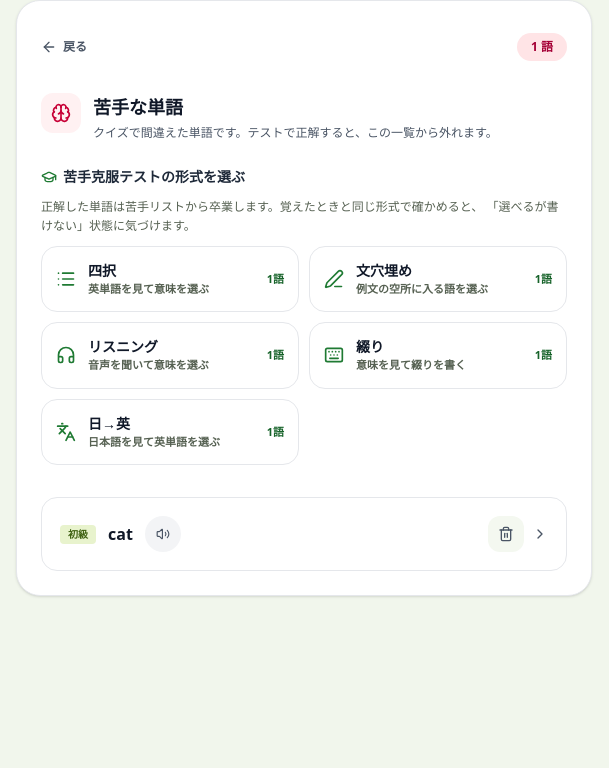
Test: 答えが例文に2回以上出てくるとき › 穴の記号を残さず、すべて答えで埋めて見せる
Click the text "cat". click: click(120, 534)
box: top-left (108, 522), bottom-right (133, 546)
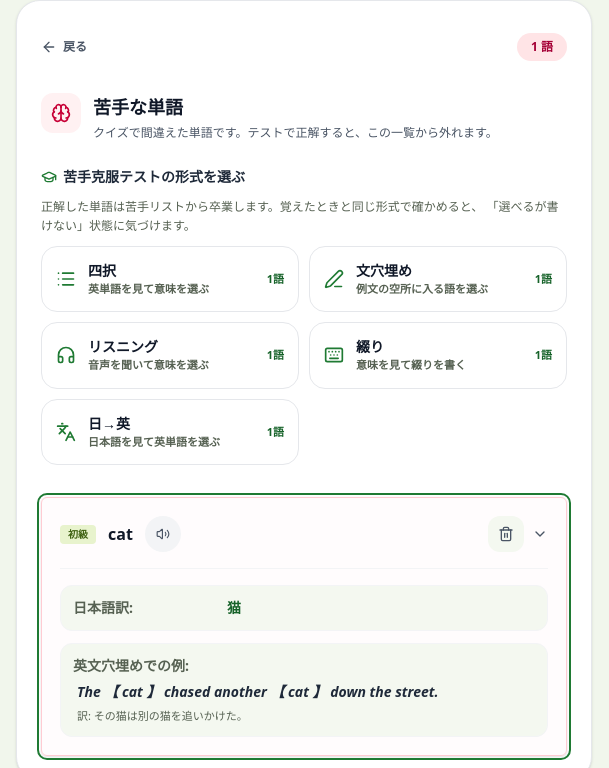
Result: the text "The 【 cat 】 chased another 【 cat 】 down the street." is shown at top-left (77, 682), bottom-right (438, 701)
